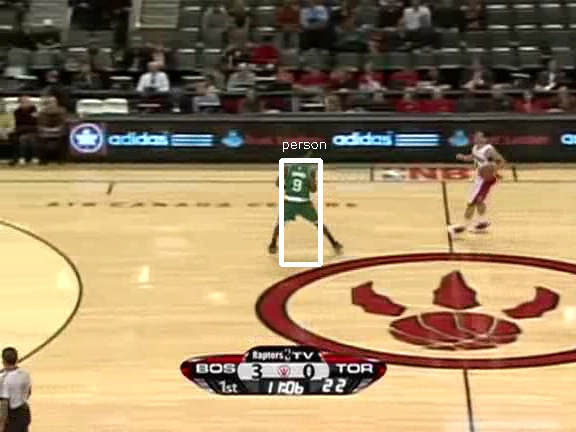person: (280, 155, 314, 236), (279, 155, 313, 236), (281, 155, 315, 236), (280, 154, 314, 235), (280, 156, 314, 237)
target_negative: (34, 311, 481, 367), (359, 57, 537, 177), (503, 210, 571, 324), (10, 107, 191, 115), (368, 188, 413, 218), (80, 430, 316, 432)
